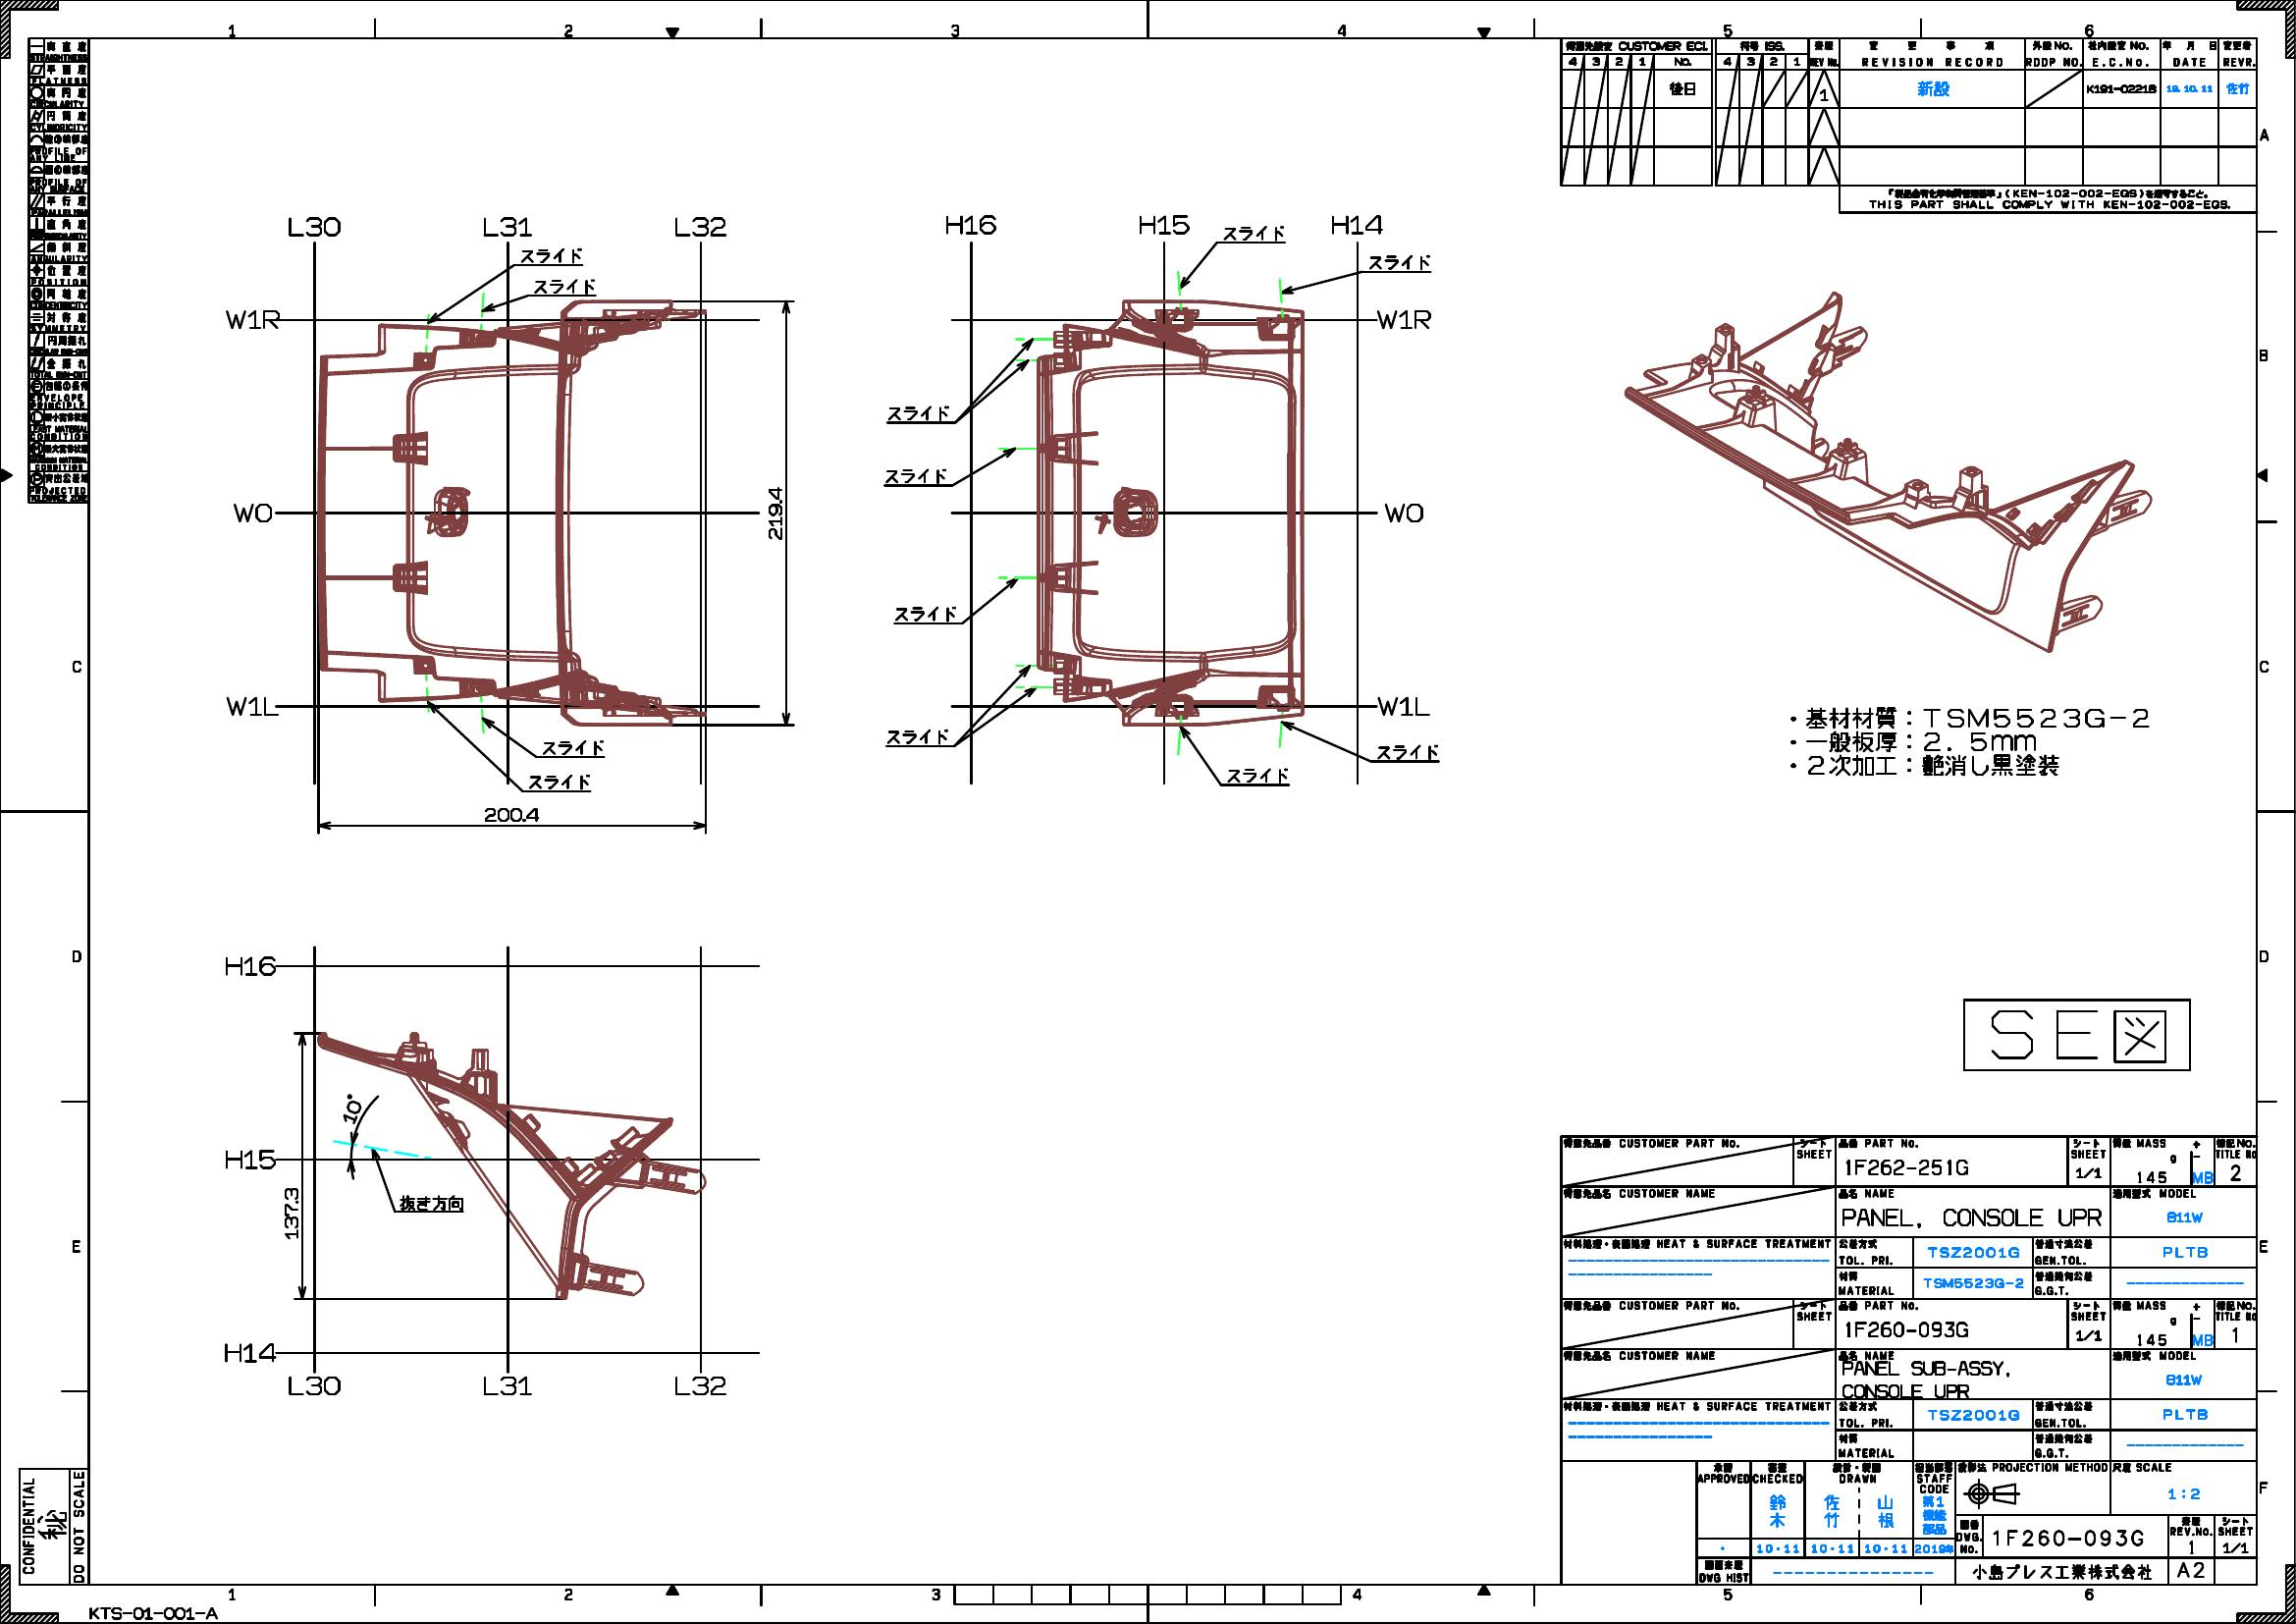anntotation_text: (1783, 701, 2150, 777), (1964, 998, 2191, 1070), (1839, 186, 2257, 213), (19, 1468, 88, 1585), (86, 1603, 220, 1620), (279, 1371, 348, 1401), (669, 213, 733, 241), (669, 1369, 733, 1397), (283, 213, 344, 239), (223, 694, 281, 721), (942, 211, 1000, 237), (884, 724, 950, 747), (892, 601, 959, 624), (884, 399, 950, 422), (480, 1371, 536, 1397), (220, 953, 279, 977), (539, 736, 606, 758), (882, 464, 949, 485), (1221, 220, 1288, 241), (218, 1341, 279, 1364), (1135, 213, 1191, 237), (1330, 213, 1386, 237), (1375, 306, 1432, 330), (1375, 692, 1432, 717), (1365, 250, 1430, 271), (1223, 761, 1288, 782), (480, 214, 534, 239), (221, 1148, 279, 1171), (230, 497, 274, 527), (1372, 740, 1439, 759), (225, 308, 281, 330), (527, 773, 597, 791), (1381, 501, 1430, 526), (399, 1193, 466, 1211), (520, 246, 585, 264), (534, 278, 597, 292)
dimension_text: (764, 482, 783, 543), (481, 805, 541, 824), (281, 1185, 299, 1243), (343, 1095, 360, 1123)
object: (1625, 292, 2152, 650), (314, 299, 708, 726), (1036, 299, 1305, 726), (316, 1032, 706, 1301)
title_block: (1560, 1135, 2257, 1584), (1558, 37, 2257, 186), (26, 35, 88, 501)
